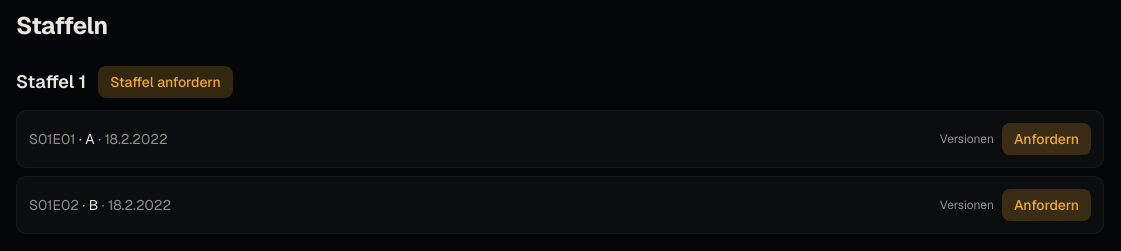
Test case: SeasonList › requests › requests a whole season and toasts the count
The image size is (1121, 251).
Step 1. Click the button "Staffel anfordern" → (165, 82), box x1=98 y1=66 x2=233 y2=98
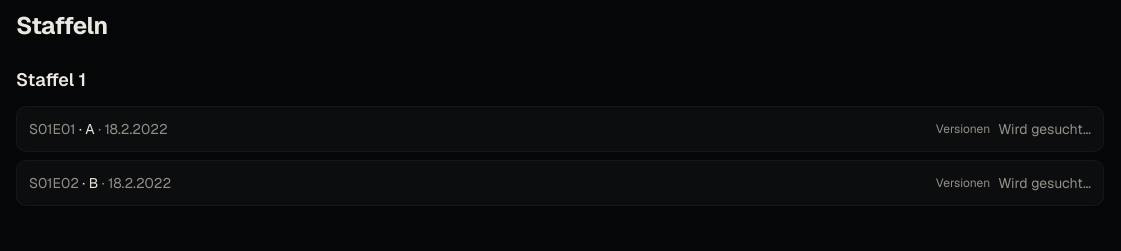
Result: the button "Staffel anfordern" is gone
Result: the text "Wird gesucht…" is shown 2 times at x1=998 y1=119 x2=1091 y2=139; x1=998 y1=173 x2=1091 y2=193
